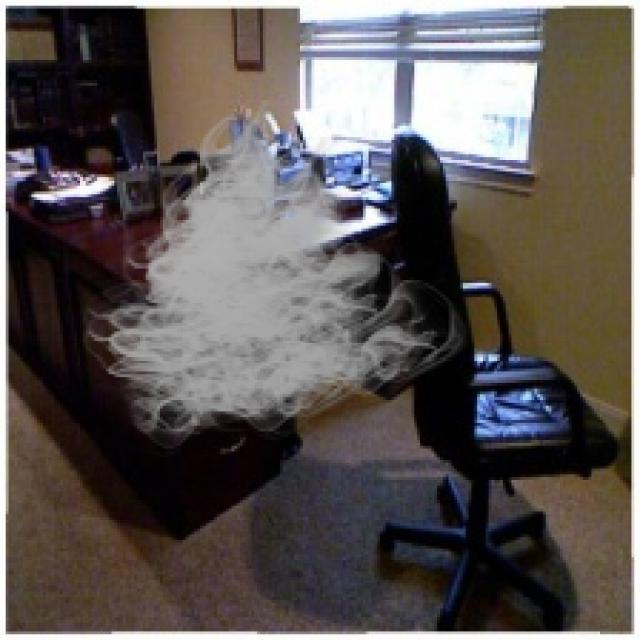smoke: (71, 100, 472, 457)
